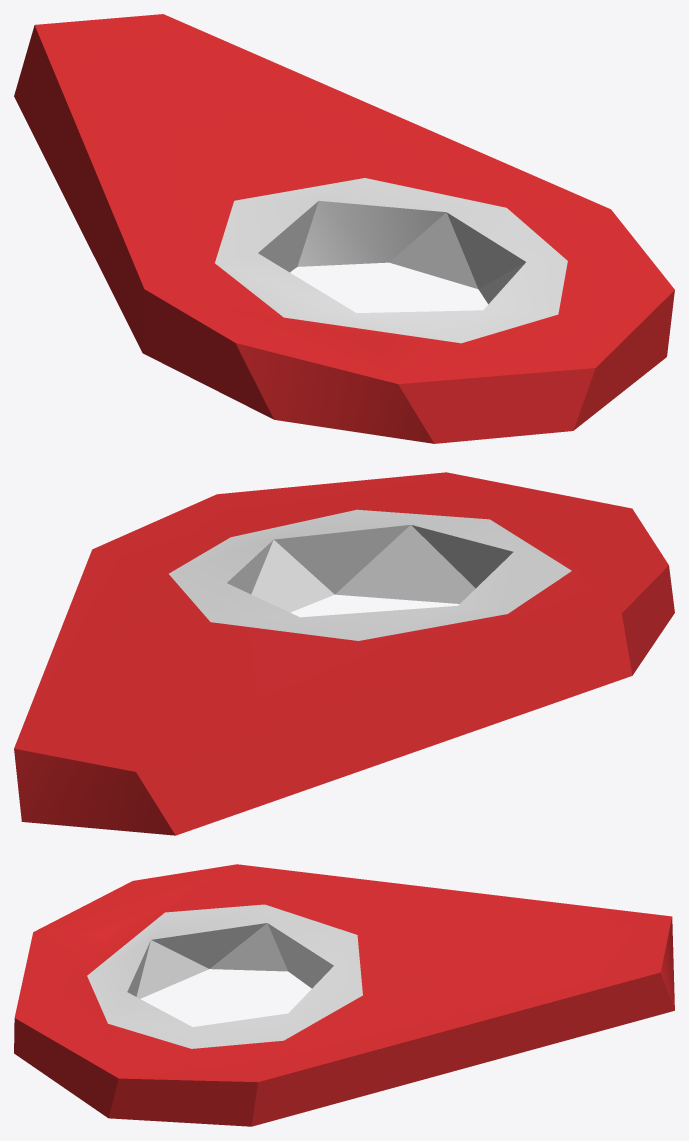
File: Pin_1_mobile.glb
3 views of the same model, one above another, from view 1: azimuth 30°, elevation 25°; view 2: azimuth 150°, elevation 25°; view 3: azimuth 270°, elevation 25° (orthographic). The views are drawn at different scales.
Visible parts, largest first — view 1: Pin1movil; view 2: Pin1movil; view 3: Pin1movil.
Boxes of the visible parts, left/top/right/bottom form: Pin1movil: left=14, top=14, right=674, bottom=443; Pin1movil: left=14, top=472, right=674, bottom=835; Pin1movil: left=14, top=864, right=674, bottom=1126.
Bounding box in the file's own units: 0.0591 × 0.0152 × 0.0901.
